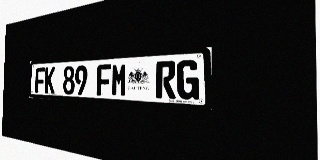8: (63, 66, 75, 94)
9: (75, 65, 88, 95)
F: (96, 64, 111, 96), (35, 67, 45, 93)
G: (177, 59, 199, 100)
K: (44, 67, 55, 94)
M: (111, 63, 127, 97)
R: (156, 60, 176, 99)
